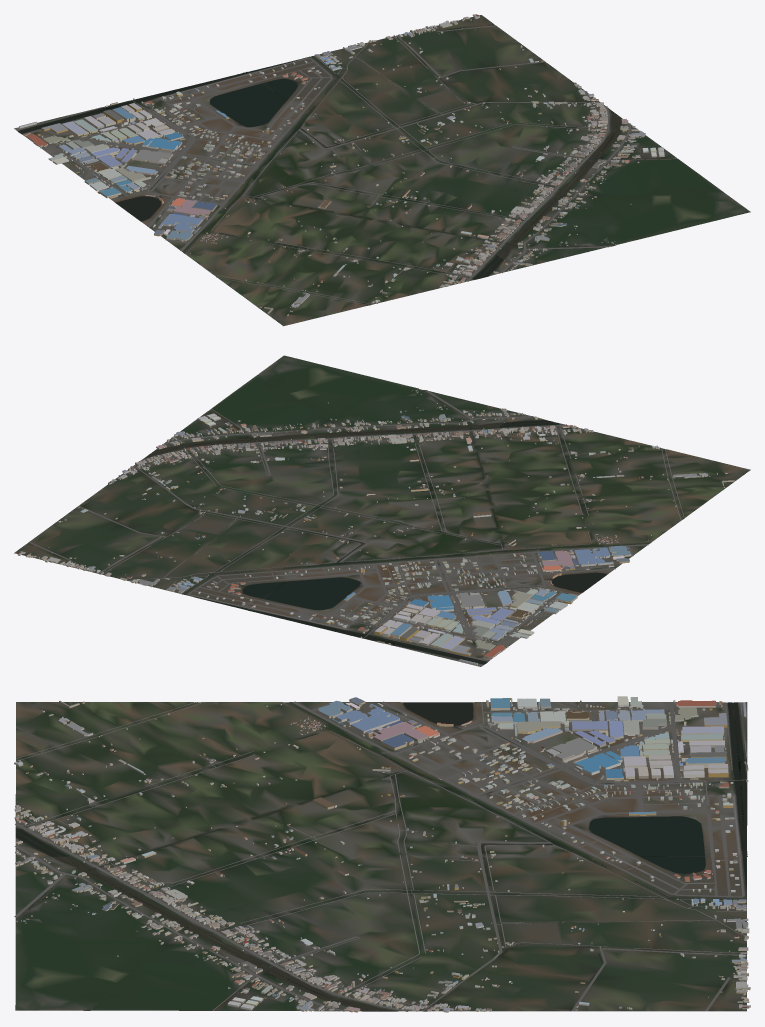
The picture shows the model from 3 angles, top to bottom: view 1: azimuth 30°, elevation 25°; view 2: azimuth 150°, elevation 25°; view 3: azimuth 270°, elevation 25°; orthographic projection. The views are drawn at different scales.
Parts seen in each view (by area): view 1: ground, buildings, roads, water; view 2: ground, buildings, roads, water; view 3: ground, buildings, roads, water.
Part boxes in pixels (box(x1,y1,x2,y2)): ground: box(14, 15, 750, 326); buildings: box(19, 14, 664, 315); roads: box(17, 25, 677, 305); water: box(18, 25, 724, 303); ground: box(14, 355, 750, 666); buildings: box(17, 388, 734, 665); roads: box(28, 390, 684, 665); water: box(32, 378, 683, 664); ground: box(15, 702, 747, 1011); buildings: box(14, 696, 750, 1012); roads: box(14, 701, 747, 1011); water: box(16, 702, 747, 1011).
Size of the model in its own units: 2845 by 28.48 by 2823.
